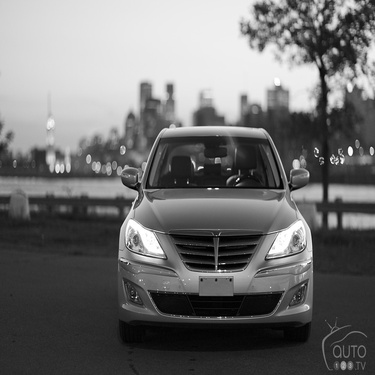car: (106, 121, 318, 338)
